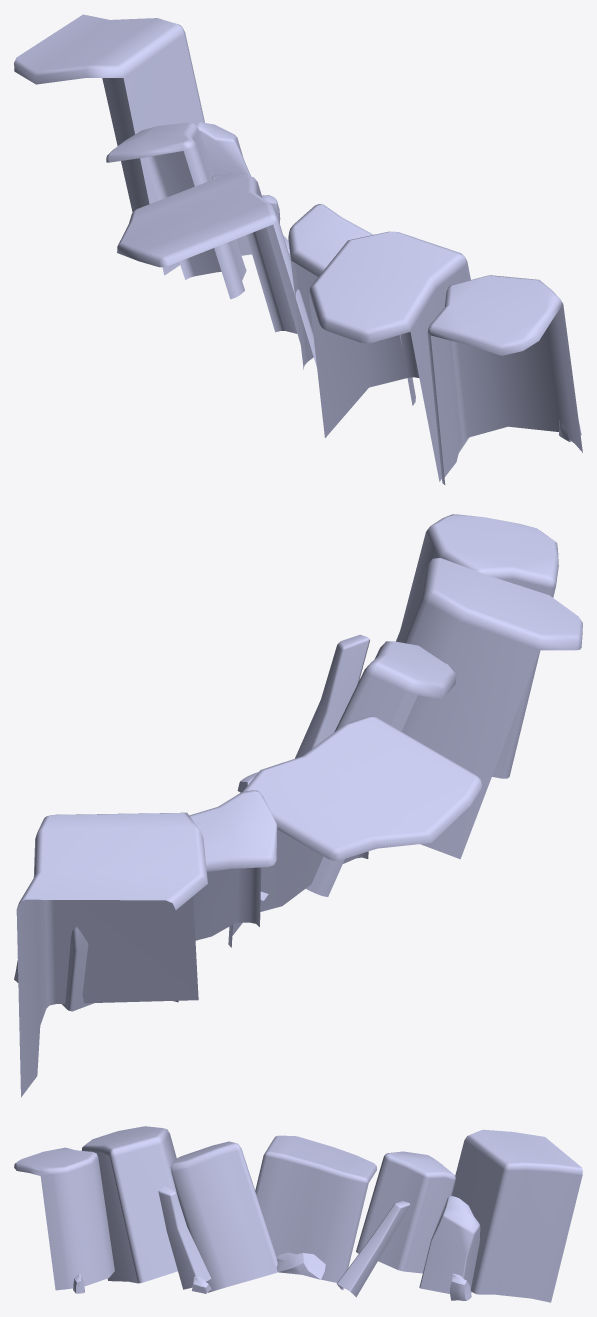
The model's file is mountain_below.fbx.
3 views of the same model, one above another, from view 1: azimuth 30°, elevation 25°; view 2: azimuth 150°, elevation 25°; view 3: azimuth 270°, elevation 25° (orthographic). The views are drawn at different scales.
Parts seen in each view (by area): view 1: moutain_below7, moutain_below6, moutain_below1, moutain_below4, moutain_below3, moutain_below5, moutain_below2; view 2: moutain_below1, moutain_below4, moutain_below6, moutain_below7, moutain_below3, moutain_below5, moutain_below12, moutain_below2; view 3: moutain_below1, moutain_below4, moutain_below5, moutain_below6, moutain_below7, moutain_below3, moutain_below2, moutain_below12, moutain_below9, moutain_below10, moutain_below8, moutain_below11.
Part boxes in pixels (box(x1,y1,x2,y2)): moutain_below7: box(427, 275, 582, 484); moutain_below6: box(308, 231, 470, 481); moutain_below1: box(14, 14, 204, 275); moutain_below4: box(117, 172, 316, 366); moutain_below3: box(106, 122, 246, 299); moutain_below5: box(288, 204, 415, 405); moutain_below2: box(195, 122, 251, 255); moutain_below1: box(16, 812, 207, 1097); moutain_below4: box(228, 716, 482, 947); moutain_below6: box(396, 558, 582, 859); moutain_below7: box(400, 514, 558, 778); moutain_below3: box(173, 790, 277, 1002); moutain_below5: box(306, 641, 456, 896); moutain_below12: box(295, 634, 369, 758); moutain_below2: box(62, 927, 94, 1011); moutain_below1: box(452, 1129, 582, 1302); moutain_below4: box(255, 1135, 376, 1282); moutain_below5: box(170, 1141, 277, 1292); moutain_below6: box(82, 1126, 177, 1283); moutain_below7: box(14, 1147, 114, 1290); moutain_below3: box(356, 1151, 455, 1273); moutain_below2: box(419, 1196, 480, 1293); moutain_below12: box(158, 1185, 211, 1289); moutain_below9: box(337, 1201, 410, 1297); moutain_below10: box(276, 1252, 325, 1279); moutain_below8: box(450, 1273, 471, 1300); moutain_below11: box(192, 1276, 211, 1293).
Bounding box in the file's own units: 1099 × 892 × 3076.
